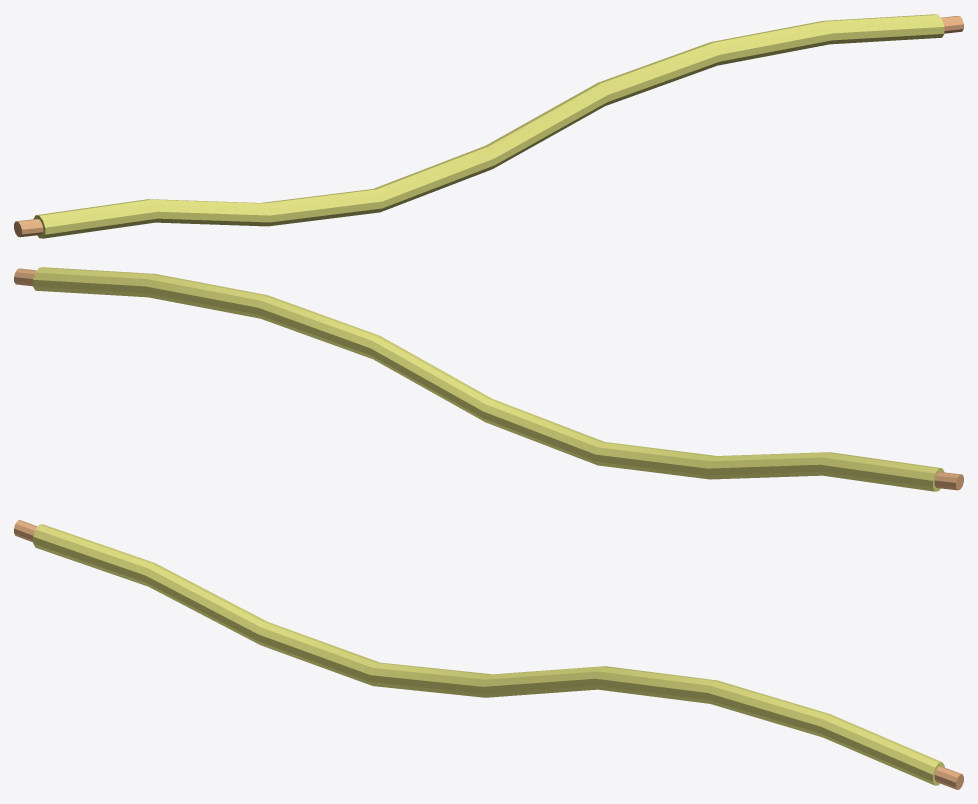
Rendered from Wire_2_Yellow.fbx.
The picture shows the model from 3 angles, top to bottom: view 1: azimuth 30°, elevation 25°; view 2: azimuth 150°, elevation 25°; view 3: azimuth 330°, elevation 25°; orthographic projection.
Parts seen in each view (by area): view 1: polySurface221; view 2: polySurface221; view 3: polySurface221.
Boxes of the visible parts, x1=… form: polySurface221: x1=14, y1=14, x2=963, y2=238; polySurface221: x1=14, y1=267, x2=963, y2=491; polySurface221: x1=14, y1=520, x2=963, y2=789.
Size of the model in its own units: 1.42 by 0.1254 by 0.0308.
